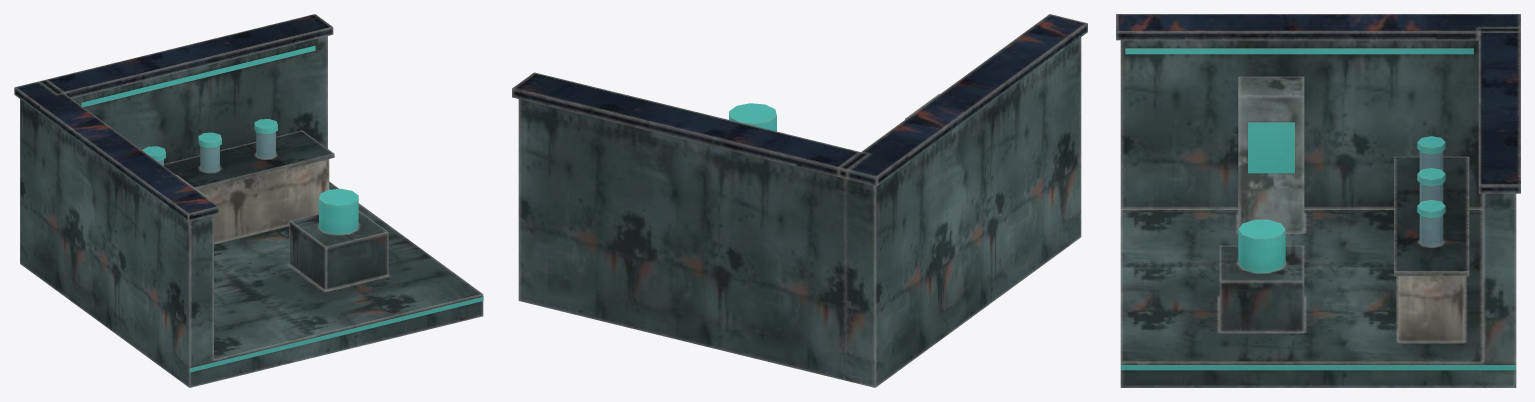
Rendered from electronics_lab.glb.
3 views of the same model, side by side, from view 1: azimuth 30°, elevation 25°; view 2: azimuth 150°, elevation 25°; view 3: azimuth 270°, elevation 25° (orthographic). The views are drawn at different scales.
Parts seen in each view (by area): view 1: te_electronics_lab; view 2: te_electronics_lab; view 3: te_electronics_lab.
Boxes of the visible parts, box(x1,y1,x2,y2) form: te_electronics_lab: box(14, 14, 483, 387); te_electronics_lab: box(512, 14, 1087, 387); te_electronics_lab: box(1116, 14, 1520, 387).
Bounding box in the file's own units: 0.86 × 0.48 × 0.86.
1 material, 1 textured.
